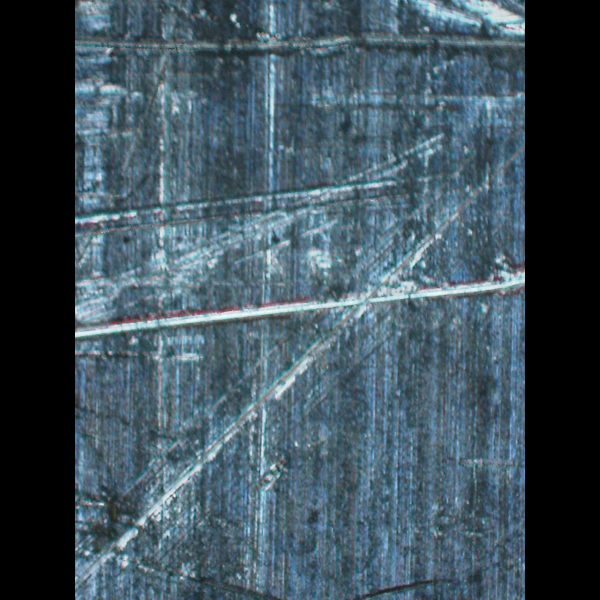d: (75, 256, 524, 371), (74, 420, 291, 600), (77, 26, 524, 82), (75, 166, 408, 240)
